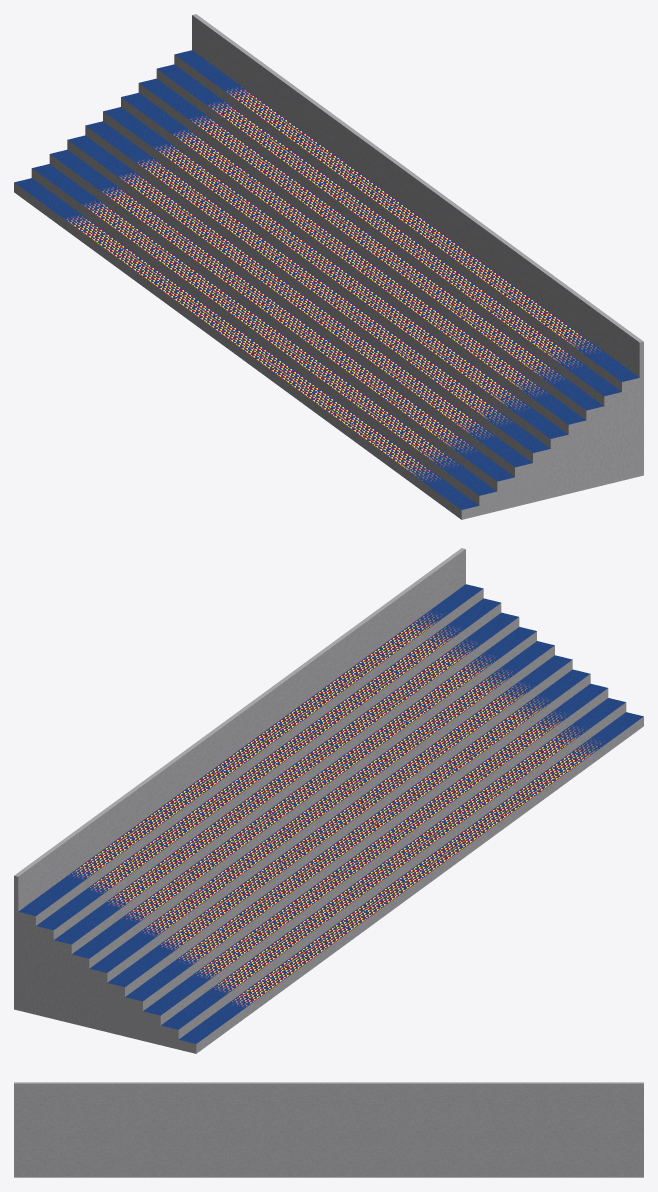
File: Gradas.obj
3 renders of one model, top to bottom at view 1: azimuth 30°, elevation 25°; view 2: azimuth 150°, elevation 25°; view 3: azimuth 270°, elevation 25°, orthographic. The views are drawn at different scales.
Size of the model in its own units: 8.7 by 6.1 by 37.
Materials: 2 (2 with a texture image).
